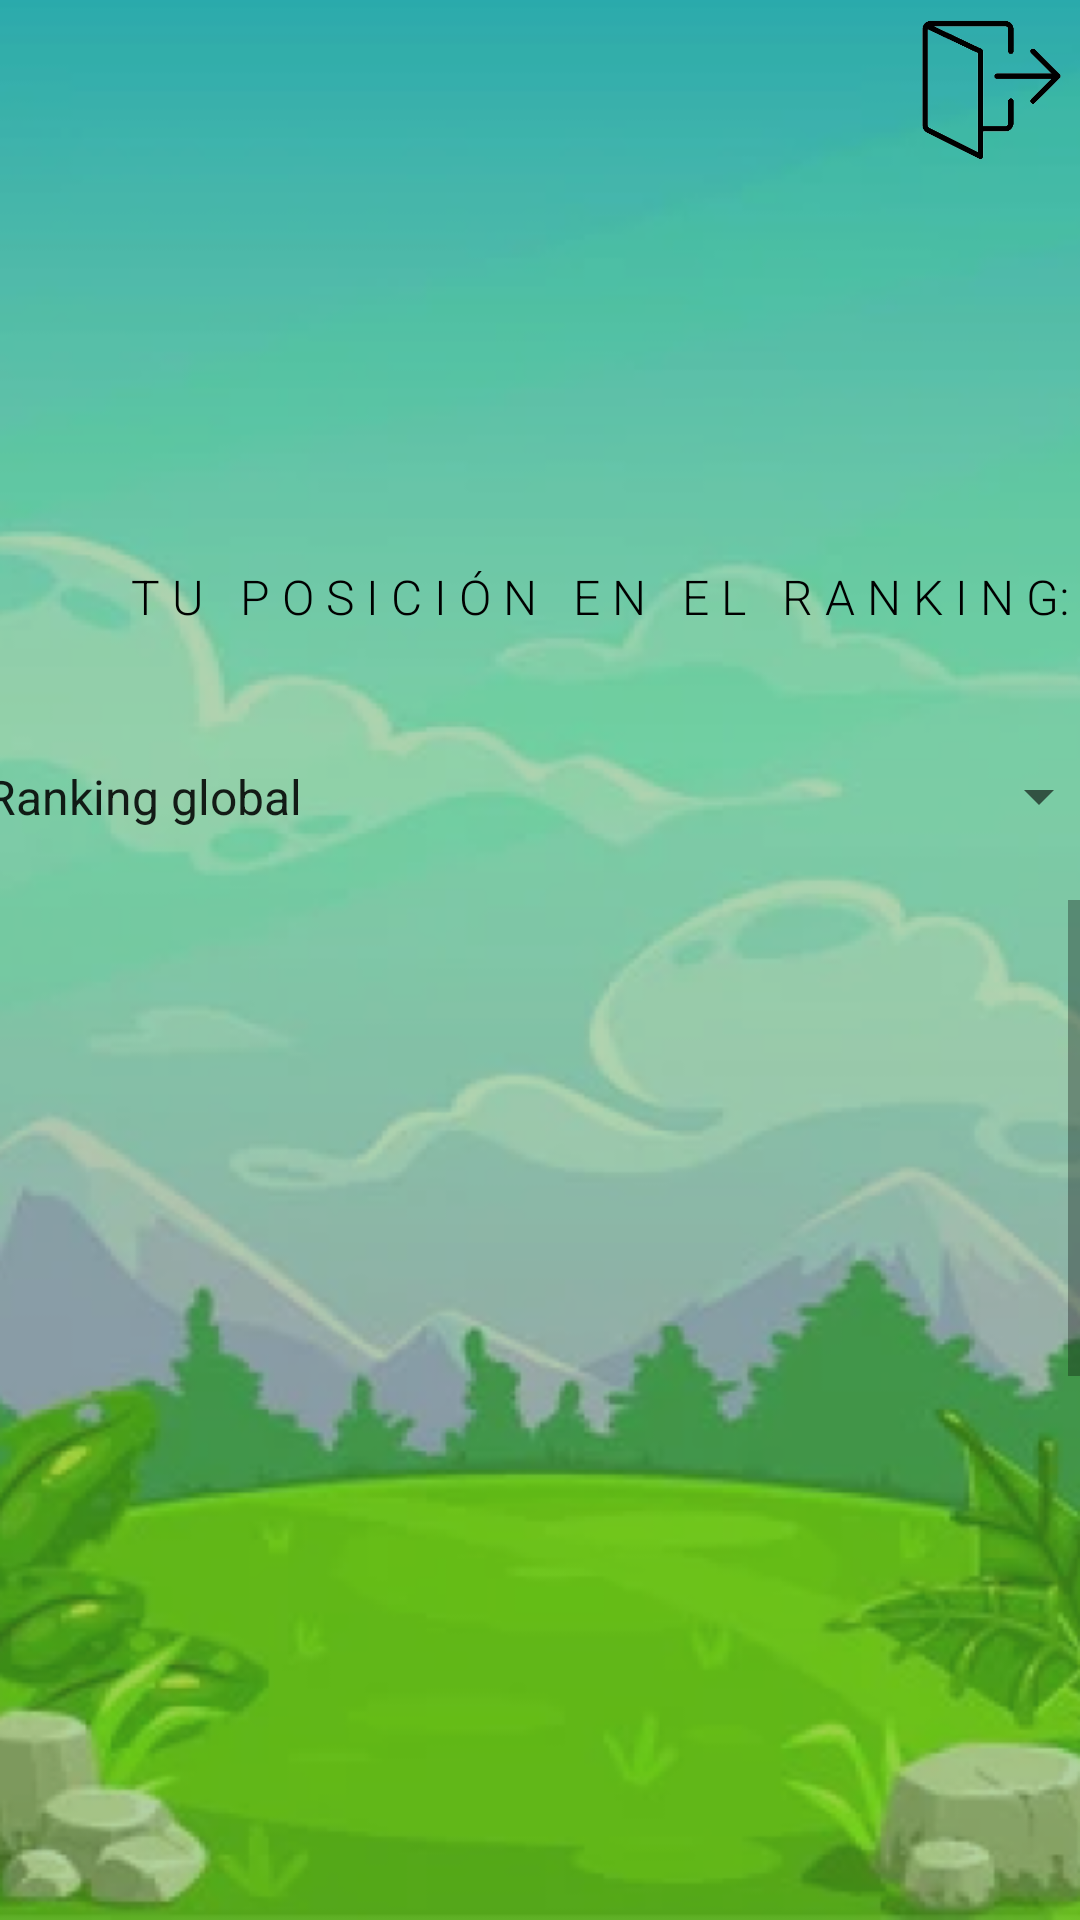

Named icons in this screenshot (1080px×1920px) and their centers, point (x, y):
abandonar: point (991, 80)
